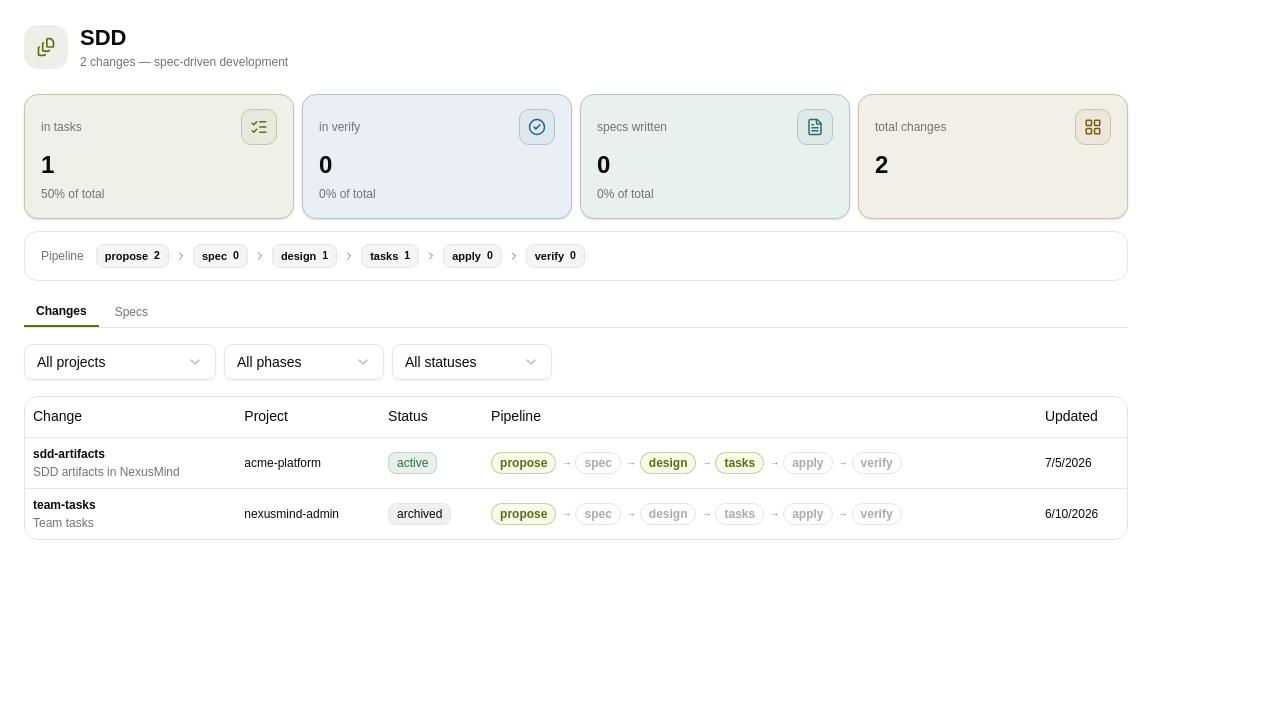
it: Sdd — change detail drawer › opens the ChangeDetail drawer when a row is clicked
Click the text "sdd-artifacts" at {"x": 69, "y": 454}, box left=33, top=446, right=105, bottom=460
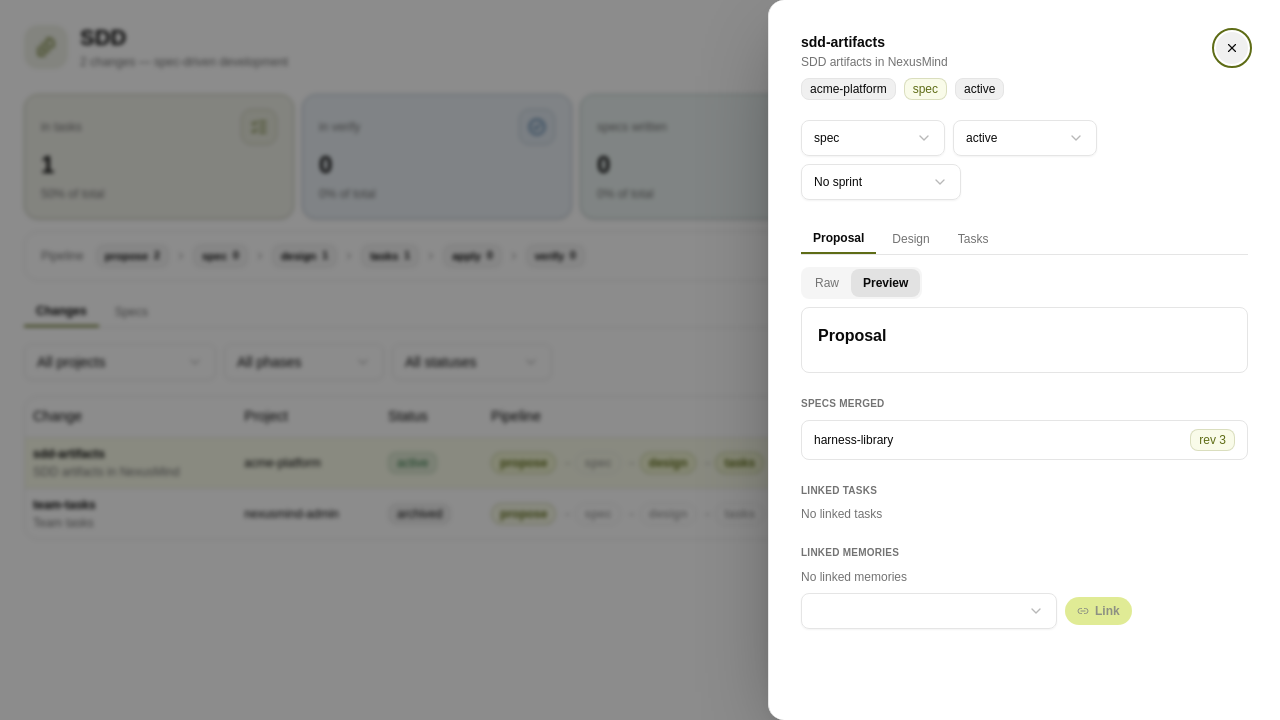
Result: the dialog is shown at left=768, top=0, right=1279, bottom=719
